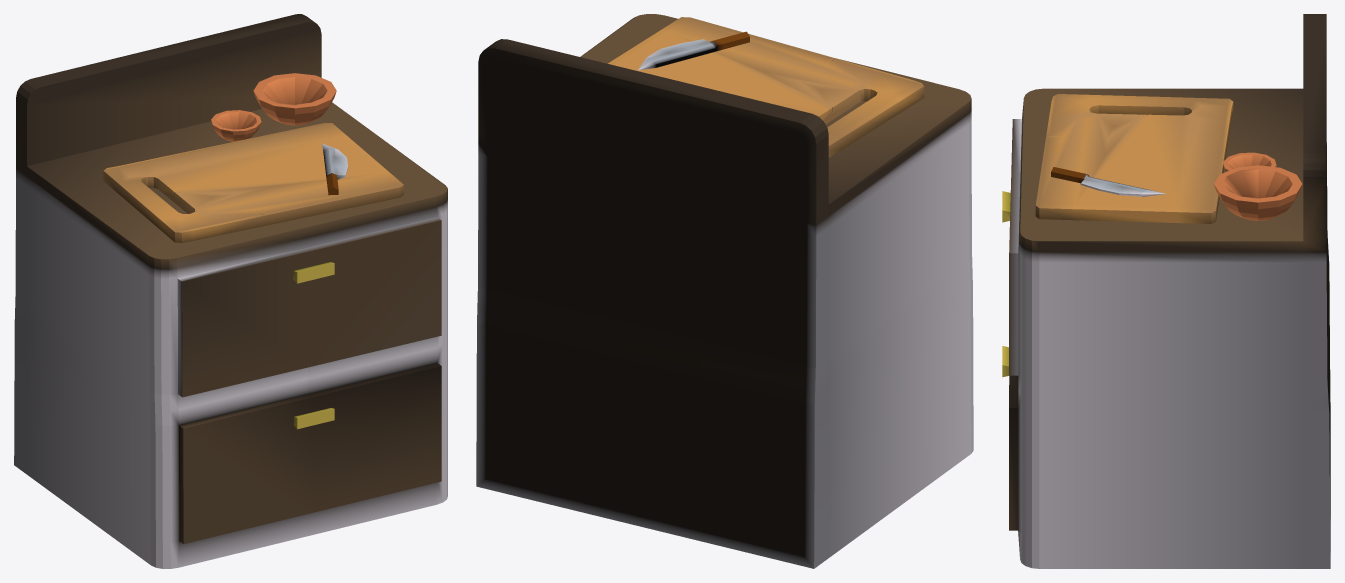
File: prep_table.glb
3 renders of one model, left to right at view 1: azimuth 30°, elevation 25°; view 2: azimuth 150°, elevation 25°; view 3: azimuth 270°, elevation 25°, orthographic. The views are drawn at different scales.
Visible parts, largest first — view 1: Cube, Cube.001, Sphere, Sphere.001, Cube.004, Cube.002; view 2: Cube, Cube.001, Cube.002; view 3: Cube, Cube.001, Sphere, Cube.002, Sphere.001, Cube.004.
Part boxes in pixels (left/top/right/bottom): Cube: left=14, top=14, right=447, bottom=568; Cube.001: left=103, top=122, right=403, bottom=242; Sphere: left=253, top=73, right=336, bottom=125; Sphere.001: left=211, top=110, right=261, bottom=141; Cube.004: left=293, top=262, right=334, bottom=429; Cube.002: left=322, top=143, right=347, bottom=195; Cube: left=476, top=14, right=973, bottom=568; Cube.001: left=608, top=17, right=924, bottom=157; Cube.002: left=638, top=31, right=749, bottom=70; Cube: left=1009, top=14, right=1330, bottom=568; Cube.001: left=1035, top=94, right=1233, bottom=223; Sphere: left=1214, top=165, right=1302, bottom=220; Cube.002: left=1051, top=167, right=1165, bottom=196; Sphere.001: left=1223, top=152, right=1276, bottom=171; Cube.004: left=1002, top=191, right=1010, bottom=377.
Bounding box in the file's own units: 0.8 × 0.9966 × 0.7268.
